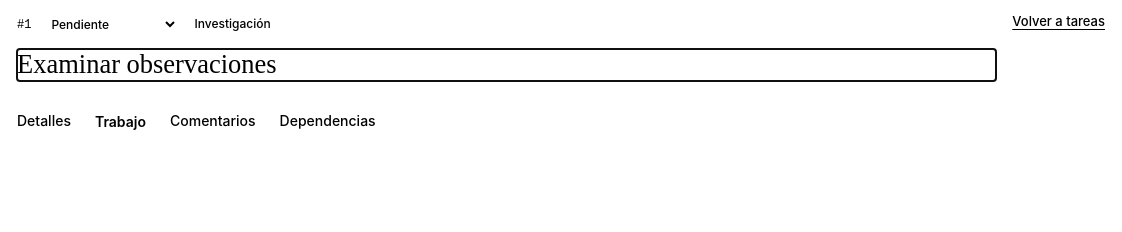
Test: does not claim no prerequisites or offer an editor based on failed reads
Click the button "Dependencias": coordinates (328, 122) [268,101,388,144]
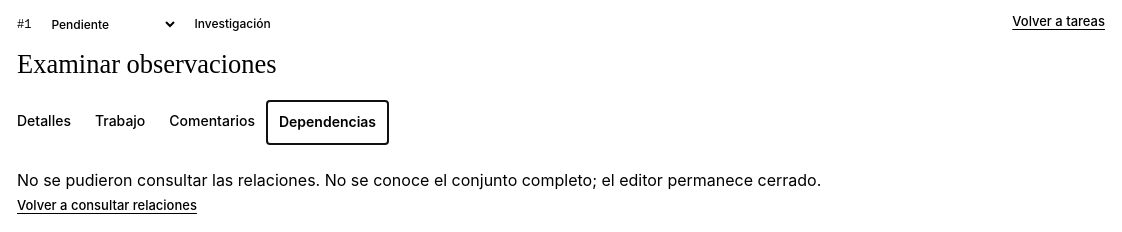
Expected: the message shows "No se pudieron consultar las relaciones", [17,170,821,190]
Expected: the button "Volver a consultar relaciones" is enabled, [17,196,197,215]
